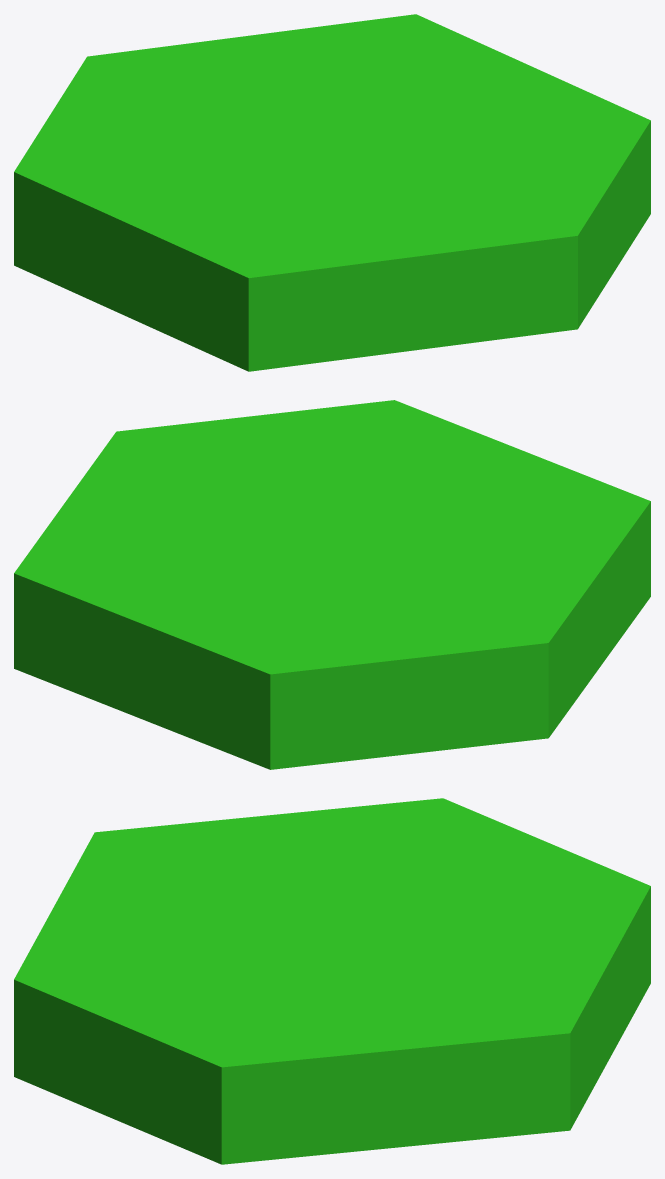
File: NormalContent.fbx
3 renders of one model, top to bottom at view 1: azimuth 30°, elevation 25°; view 2: azimuth 150°, elevation 25°; view 3: azimuth 270°, elevation 25°, orthographic. The views are drawn at different scales.
Parts seen in each view (by area): view 1: Model; view 2: Model; view 3: Model.
Boxes of the visible parts, x1=… form: Model: x1=14, y1=14, x2=650, y2=371; Model: x1=14, y1=400, x2=650, y2=769; Model: x1=14, y1=798, x2=650, y2=1164.
Size of what is drawn, in the model's own units: 1.83 by 0.308 by 1.83.
